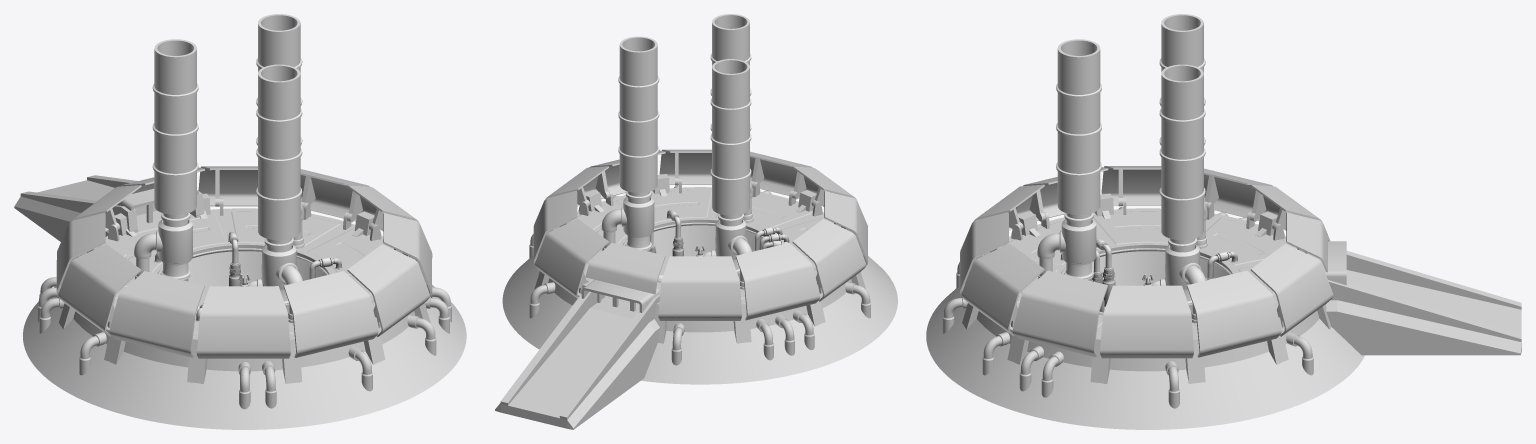
Rendered from building01.fbx.
The picture shows the model from 3 angles, left to right: view 1: azimuth 30°, elevation 25°; view 2: azimuth 150°, elevation 25°; view 3: azimuth 270°, elevation 25°; orthographic projection. The views are drawn at different scales.
Parts seen in each view (by area): view 1: Cover, Building01, Chimmey3, Chimmey1, Ramp, Tubes, Spikes, Chimmey2, Extra Pipe.006; view 2: Cover, Building01, Ramp, Chimmey2, Chimmey3, Tubes, Spikes, Chimmey1, Extra Pipe.005; view 3: Cover, Building01, Ramp, Chimmey1, Chimmey2, Spikes, Tubes, Chimmey3, Extra Pipe.003.
Part boxes in pixels (x1=…): Cover: x1=56, y1=166, x2=432, y2=358; Building01: x1=23, y1=208, x2=466, y2=429; Chimmey3: x1=134, y1=39, x2=199, y2=311; Chimmey1: x1=256, y1=64, x2=302, y2=323; Ramp: x1=14, y1=175, x2=204, y2=241; Tubes: x1=37, y1=277, x2=451, y2=409; Spikes: x1=58, y1=193, x2=430, y2=383; Chimmey2: x1=248, y1=14, x2=304, y2=286; Extra Pipe.006: x1=228, y1=231, x2=241, y2=286; Cover: x1=533, y1=149, x2=867, y2=320; Building01: x1=502, y1=187, x2=897, y2=384; Ramp: x1=495, y1=279, x2=659, y2=429; Chimmey2: x1=601, y1=36, x2=663, y2=279; Chimmey3: x1=710, y1=59, x2=752, y2=289; Tubes: x1=529, y1=185, x2=870, y2=365; Spikes: x1=534, y1=174, x2=865, y2=343; Chimmey1: x1=703, y1=14, x2=753, y2=256; Extra Pipe.005: x1=666, y1=209, x2=683, y2=256; Cover: x1=960, y1=166, x2=1333, y2=358; Building01: x1=926, y1=208, x2=1364, y2=429; Ramp: x1=1305, y1=241, x2=1521, y2=355; Chimmey1: x1=1037, y1=39, x2=1105, y2=308; Chimmey2: x1=1159, y1=64, x2=1206, y2=323; Spikes: x1=962, y1=193, x2=1331, y2=384; Tubes: x1=942, y1=207, x2=1313, y2=408; Chimmey3: x1=1151, y1=14, x2=1207, y2=285; Extra Pipe.003: x1=1096, y1=238, x2=1115, y2=306.
Bounding box in the file's own units: 51440 × 41575 × 69039.
